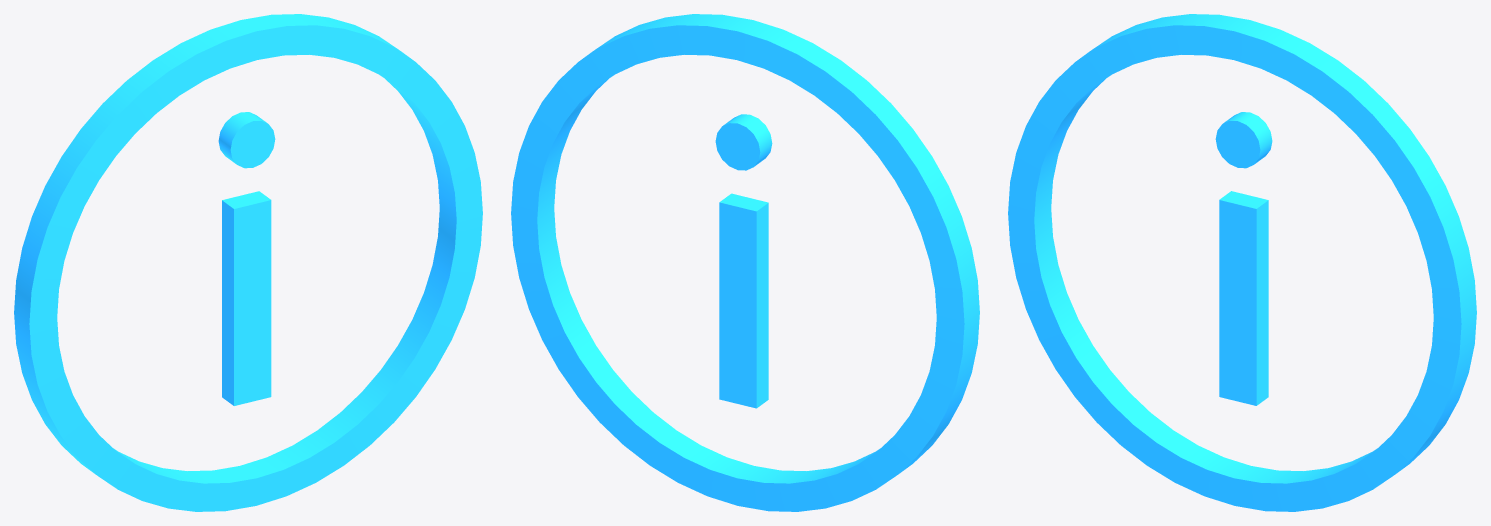
File: Info.glb
3 renders of one model, left to right at view 1: azimuth 30°, elevation 25°; view 2: azimuth 150°, elevation 25°; view 3: azimuth 330°, elevation 25°, orthographic.
Parts seen in each view (by area): view 1: i; view 2: i; view 3: i.
Boxes of the visible parts, x1=… form: i: x1=14, y1=14, x2=482, y2=511; i: x1=511, y1=14, x2=979, y2=511; i: x1=1008, y1=14, x2=1476, y2=511.
Size of the model in its own units: 0.612 by 0.612 by 0.0397.
